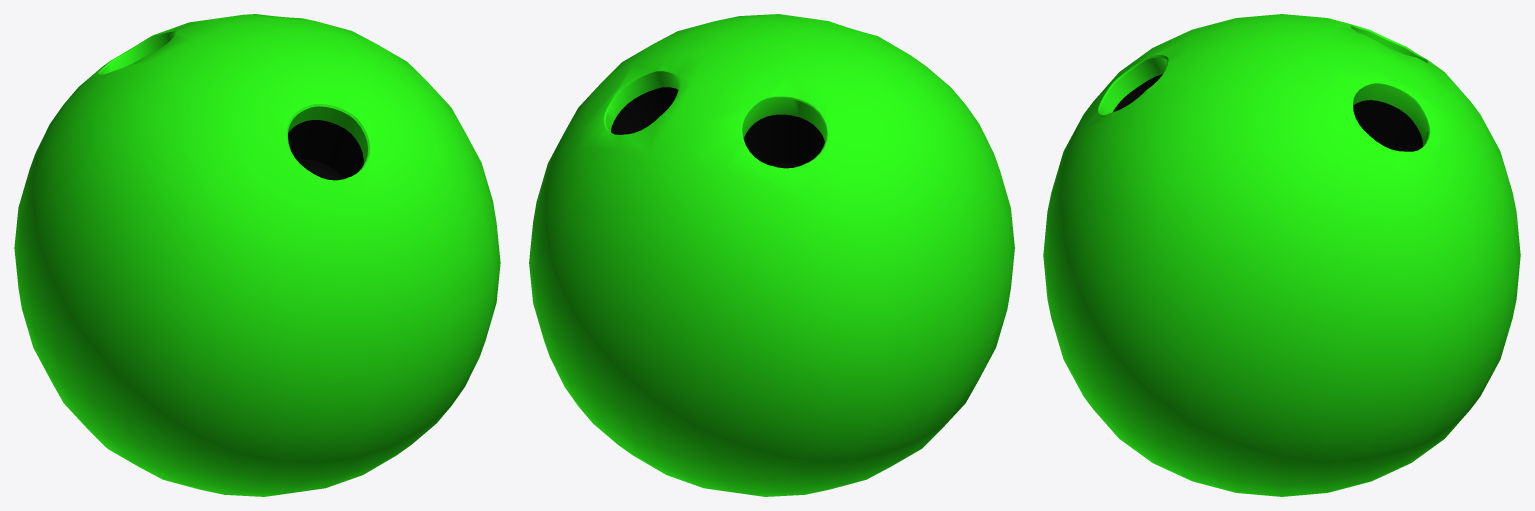
Rendered from BoulingGreen.fbx.
3 views of the same model, side by side, from view 1: azimuth 30°, elevation 25°; view 2: azimuth 150°, elevation 25°; view 3: azimuth 270°, elevation 25° (orthographic).
Visible parts, largest first — view 1: Cube.013; view 2: Cube.013; view 3: Cube.013.
Boxes of the visible parts, x1=… form: Cube.013: x1=14, y1=14, x2=500, y2=496; Cube.013: x1=529, y1=14, x2=1014, y2=496; Cube.013: x1=1043, y1=14, x2=1520, y2=496.
Size of the model in its own units: 159 by 159 by 159.
